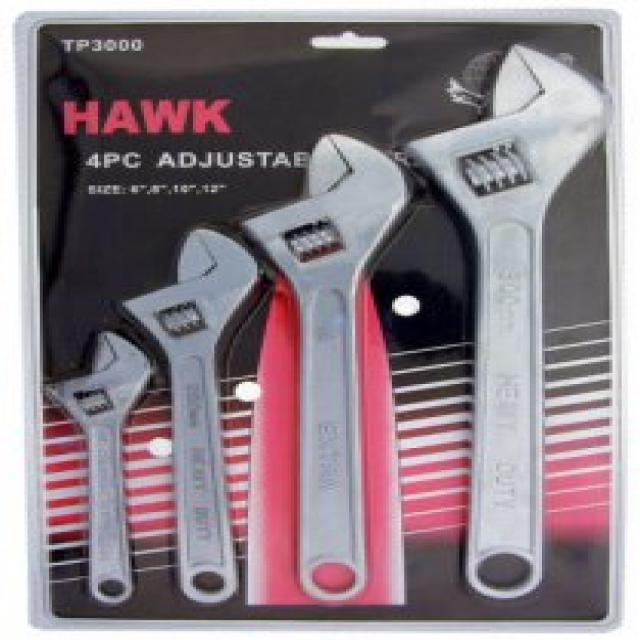wrench: (408, 33, 624, 607), (232, 123, 416, 610), (113, 220, 259, 608), (41, 321, 161, 607)
